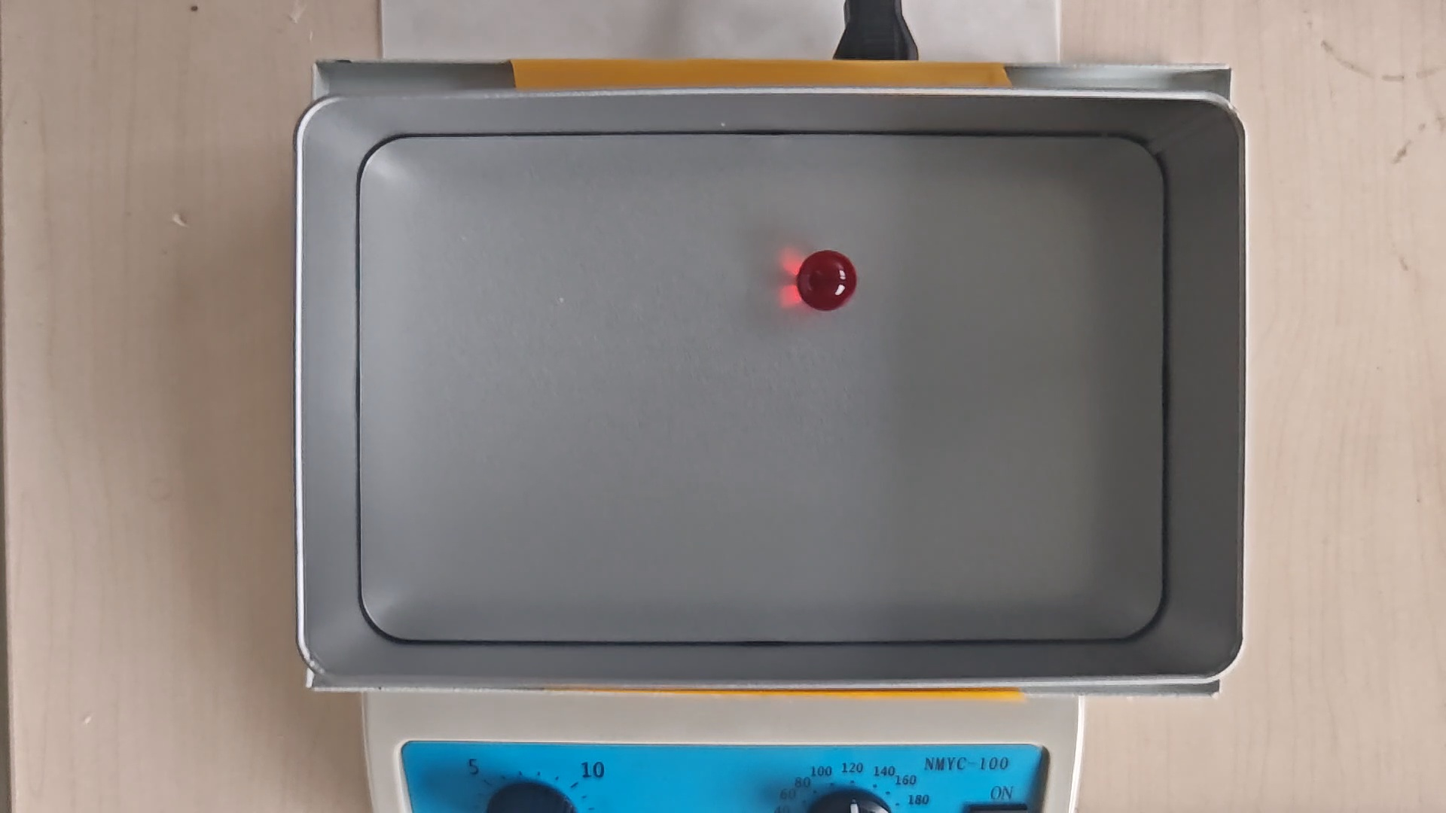ball: (797, 250, 858, 310)
container: (356, 135, 1166, 642)
